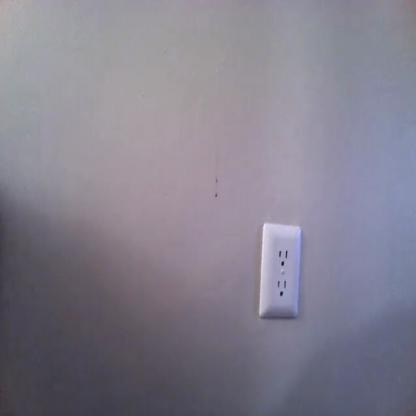OUTLET: (262, 224, 298, 314)
